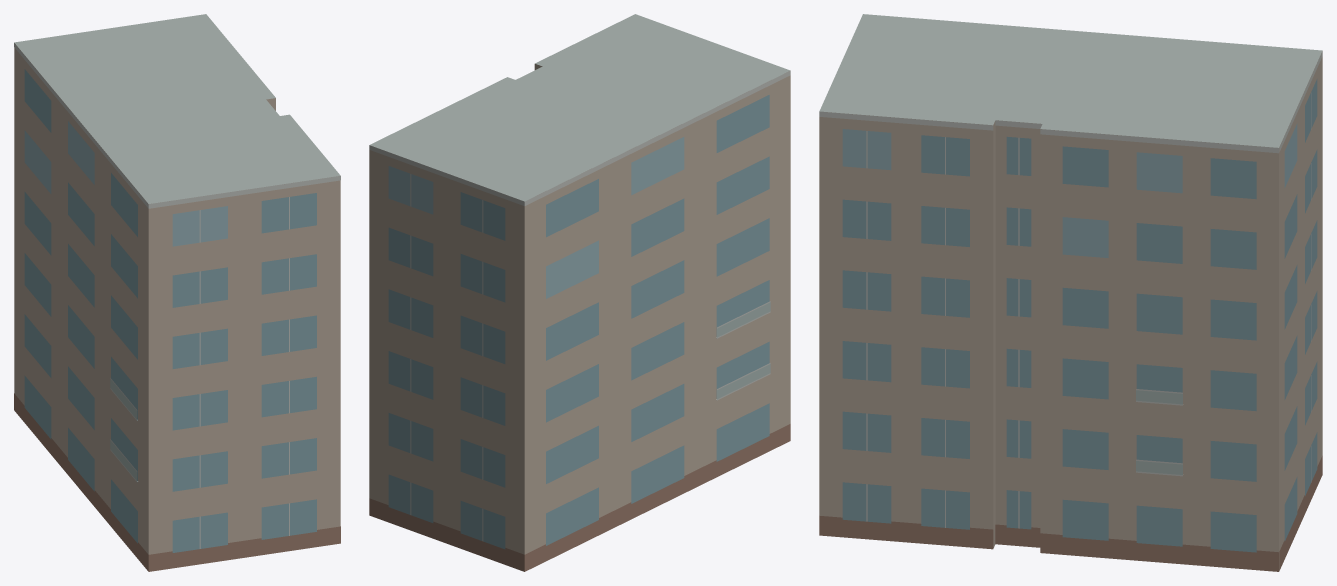
File: survey-upis-32793926.glb
3 renders of one model, left to right at view 1: azimuth 30°, elevation 25°; view 2: azimuth 150°, elevation 25°; view 3: azimuth 270°, elevation 25°, orthographic. The views are drawn at different scales.
Parts seen in each view (by area): view 1: survey-upis-32793926.tmp; view 2: survey-upis-32793926.tmp; view 3: survey-upis-32793926.tmp.
Boxes of the visible parts, x1,y1,x2,y2 form: survey-upis-32793926.tmp: (14, 14, 340, 571); survey-upis-32793926.tmp: (369, 14, 790, 571); survey-upis-32793926.tmp: (819, 14, 1322, 571).
Size of the model in its own units: 13.01 by 19.2 by 20.67.
